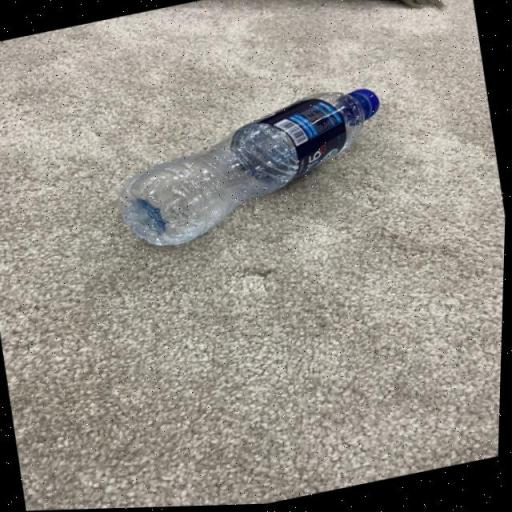plastic: (102, 77, 400, 259)
